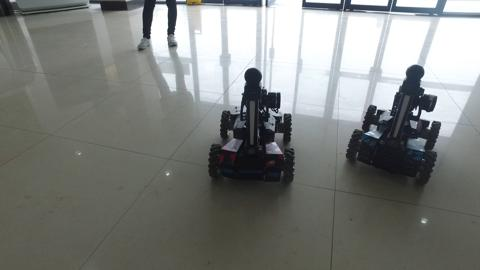chariot: (198, 63, 308, 187), (340, 60, 445, 188)
